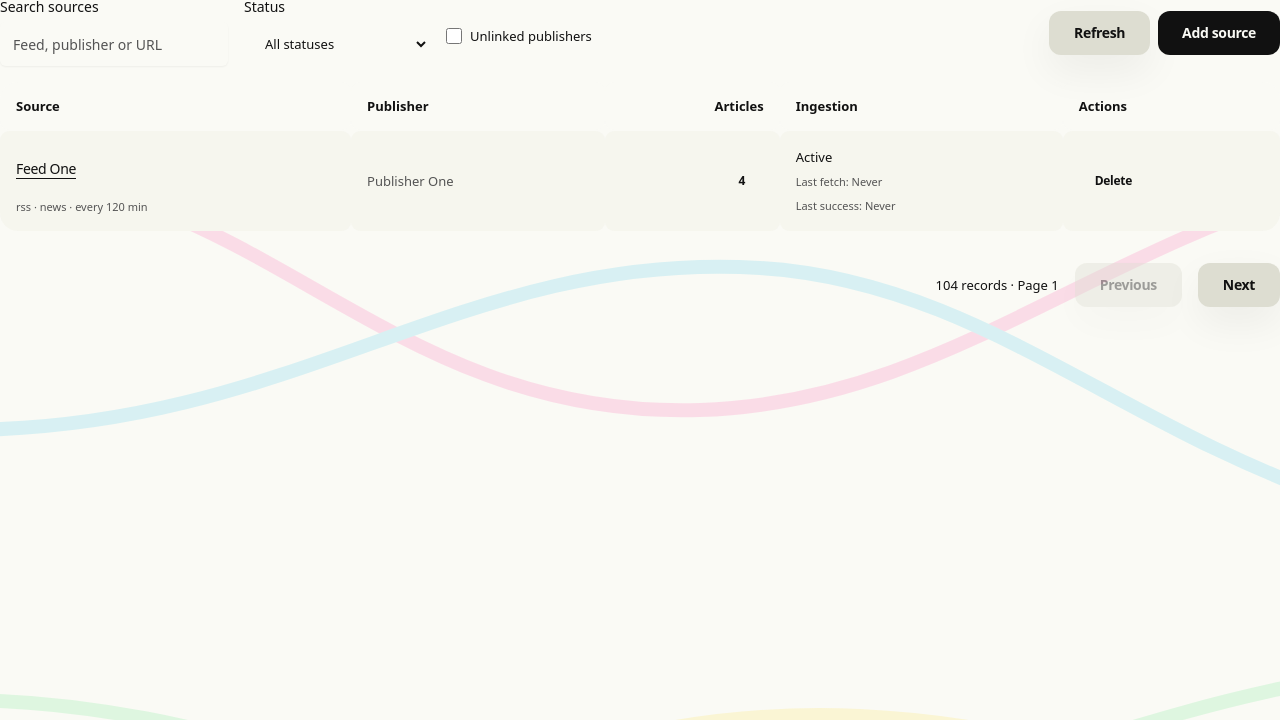
Test case: News source workspace › keeps publisher identity read-only for moderators while allowing feed editing
This screenshot has width=1280, height=720.
Click the button with aria-label "Edit Feed One" at (46,168), box [16,146,76,190]
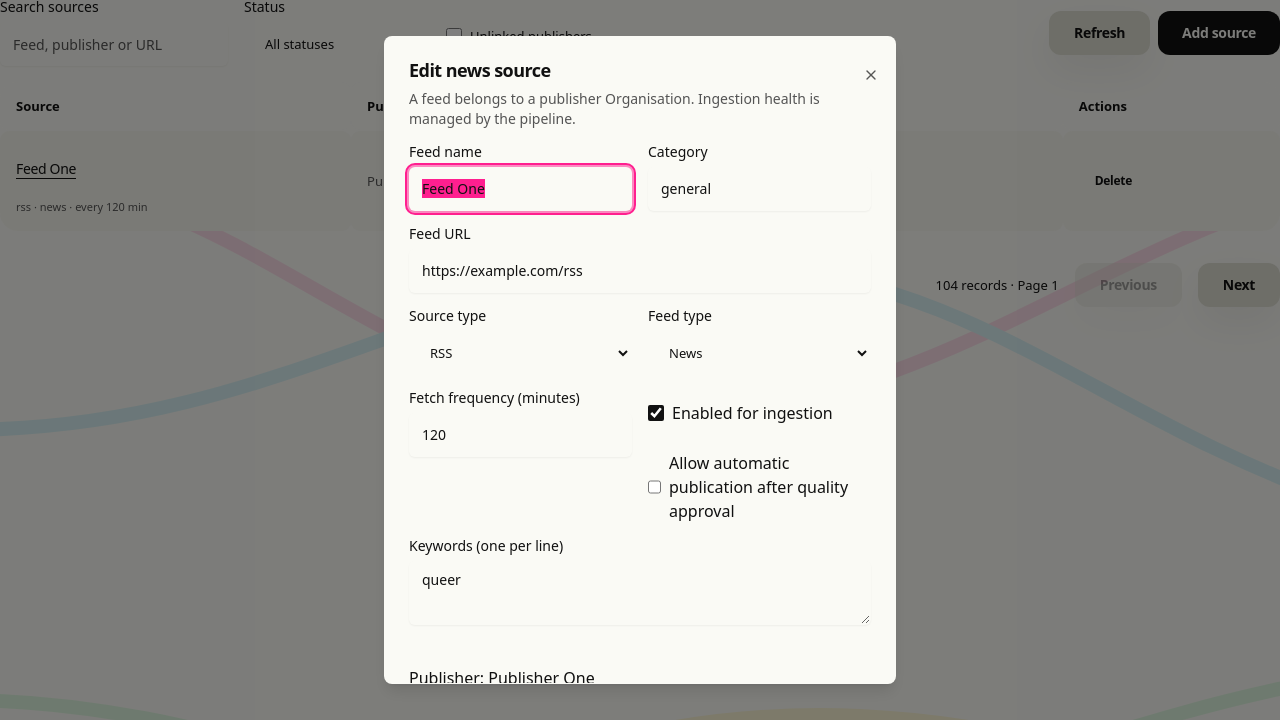
Result: the field labelled "Feed URL" is enabled at [409,249,871,293]
